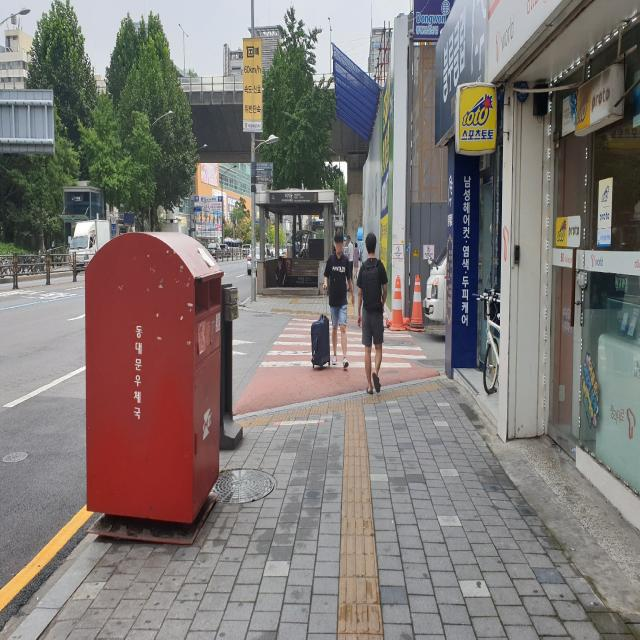횡단보도: (258, 318, 427, 368)
